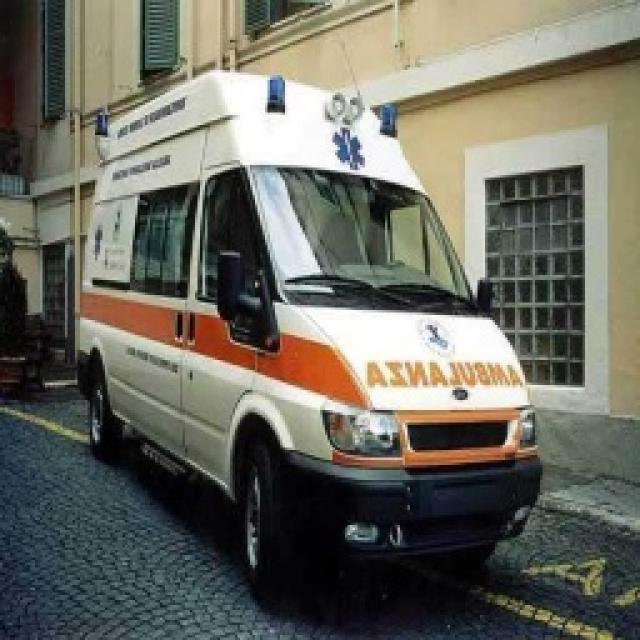emergency-vehicle: (28, 59, 566, 583)
